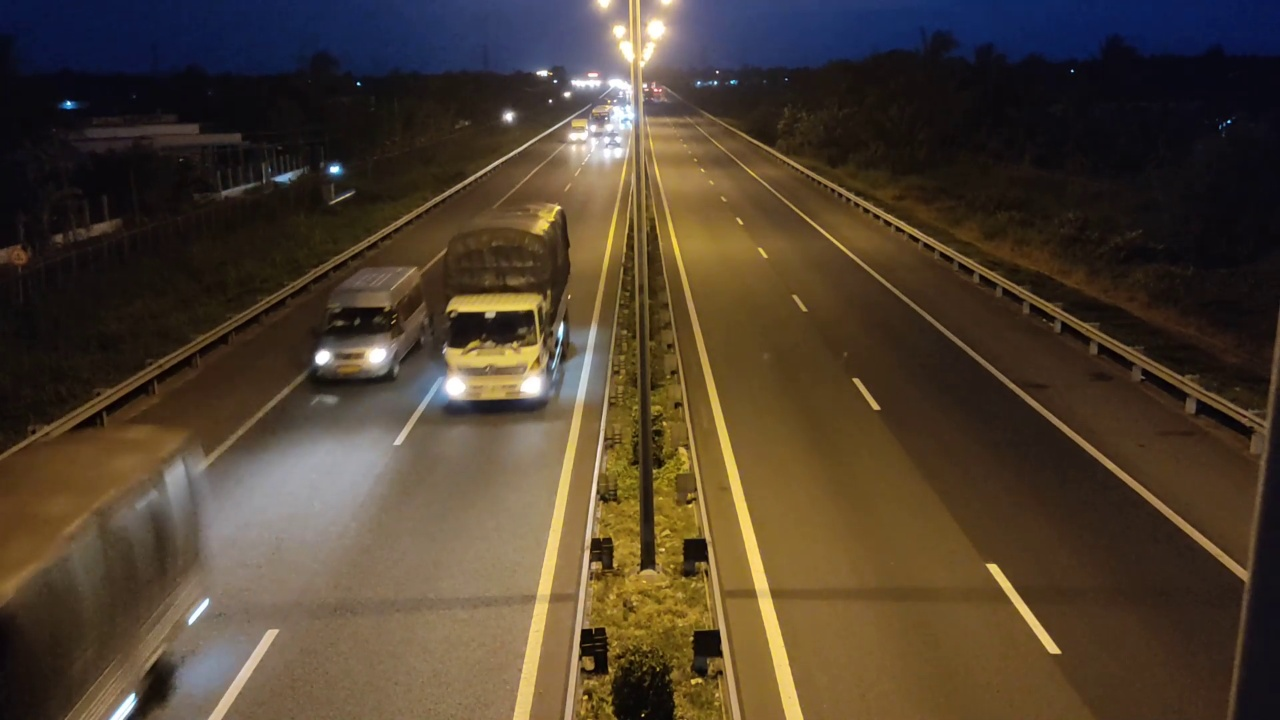car: (310, 260, 429, 390)
truck: (440, 201, 573, 413)
